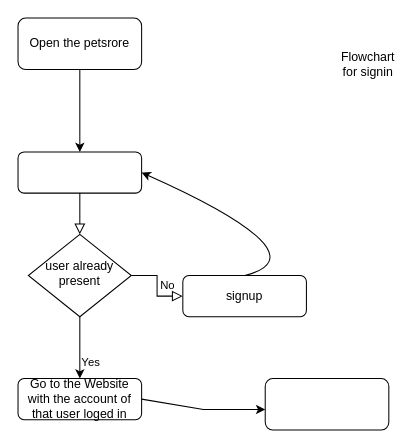
Some shapes in this 417 by 448 pixel diagram are drawn without their labels. The shapes that lost their labels are listed below. From the top down, each one's centre as x and y in pixels, then its label:
At (79,172): "Signin".
At (326,403): "Browse the website".
